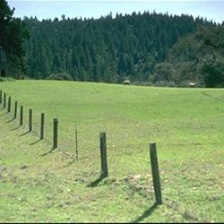neutral: (3, 3, 224, 221)
